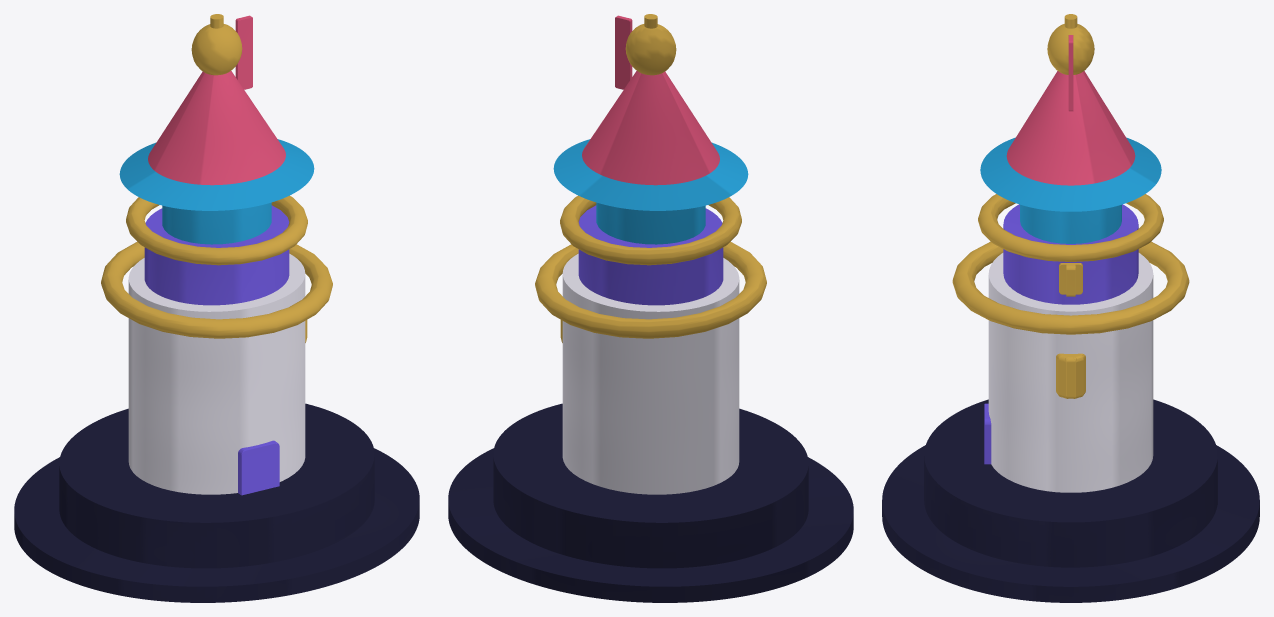
File: 0793_中国建筑图鉴_滕王阁.glb
3 renders of one model, left to right at view 1: azimuth 30°, elevation 25°; view 2: azimuth 150°, elevation 25°; view 3: azimuth 270°, elevation 25°, orthographic.
Visible parts, largest first — view 1: card_0793; view 2: card_0793; view 3: card_0793.
Part boxes in pixels (<box>): card_0793: <box>14,14,419,602</box>; card_0793: <box>448,14,853,602</box>; card_0793: <box>882,14,1259,602</box>.
Size of the model in its own units: 0.7433 by 1 by 0.6853.
